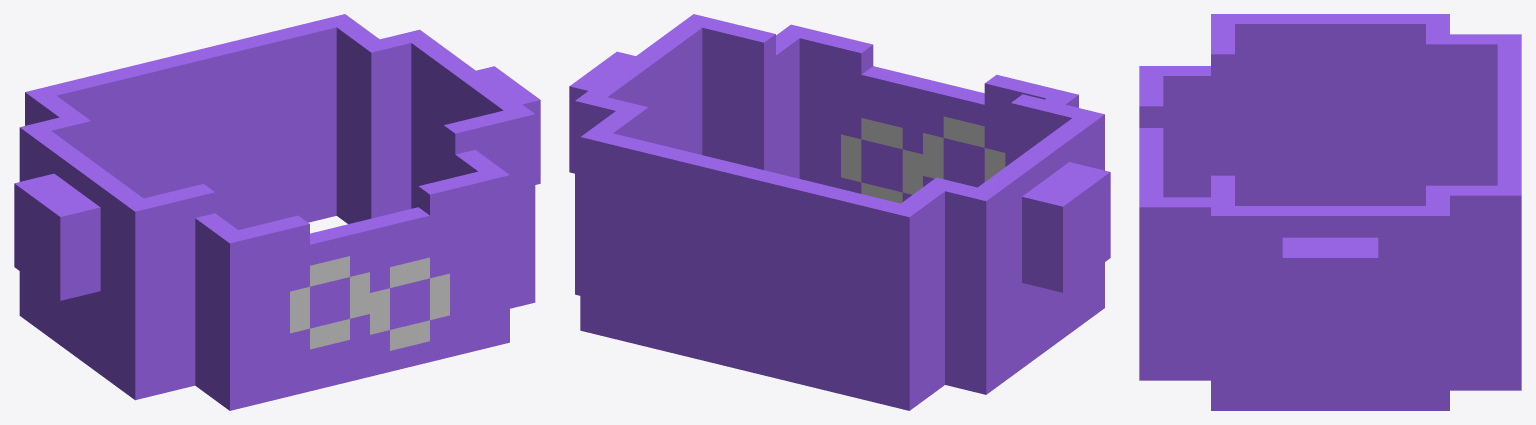
3 views of the same model, side by side, from view 1: azimuth 30°, elevation 25°; view 2: azimuth 150°, elevation 25°; view 3: azimuth 270°, elevation 25° (orthographic). The views are drawn at different scales.
Visible parts, largest first — view 1: 135; view 2: 135; view 3: 135.
Boxes of the visible parts, left/top/right/bottom form: 135: left=14, top=14, right=540, bottom=410; 135: left=569, top=14, right=1110, bottom=410; 135: left=1139, top=14, right=1521, bottom=410.
Bounding box in the file's own units: 2.4 × 0.9 × 1.6.
1 material, 1 textured.
